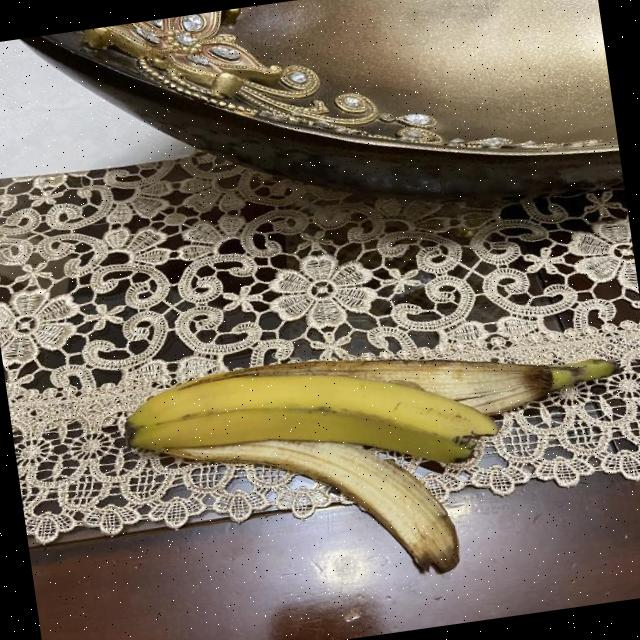banana-peel: (116, 313, 640, 614), (118, 336, 502, 510)
